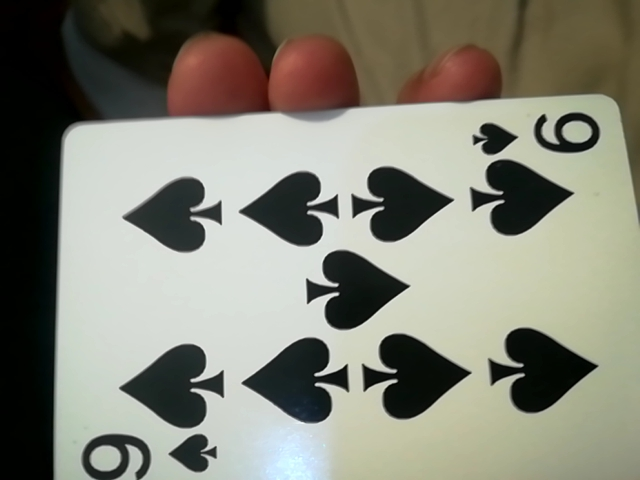ht 9: (45, 99, 631, 478)
